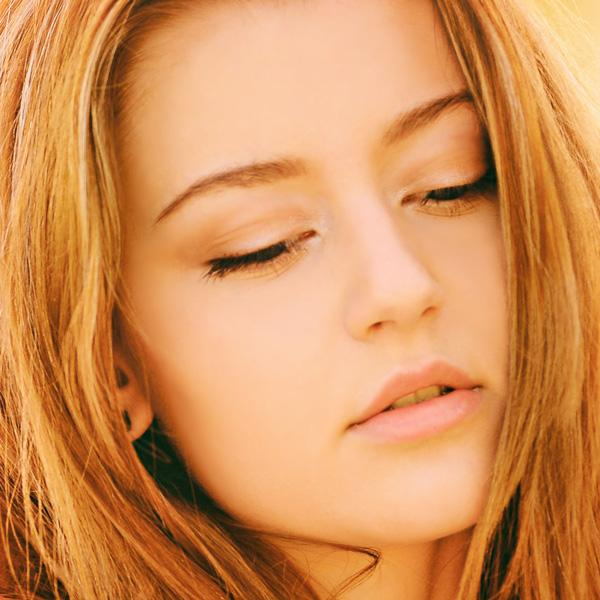Eyes: (396, 126, 512, 221), (196, 207, 326, 288)
